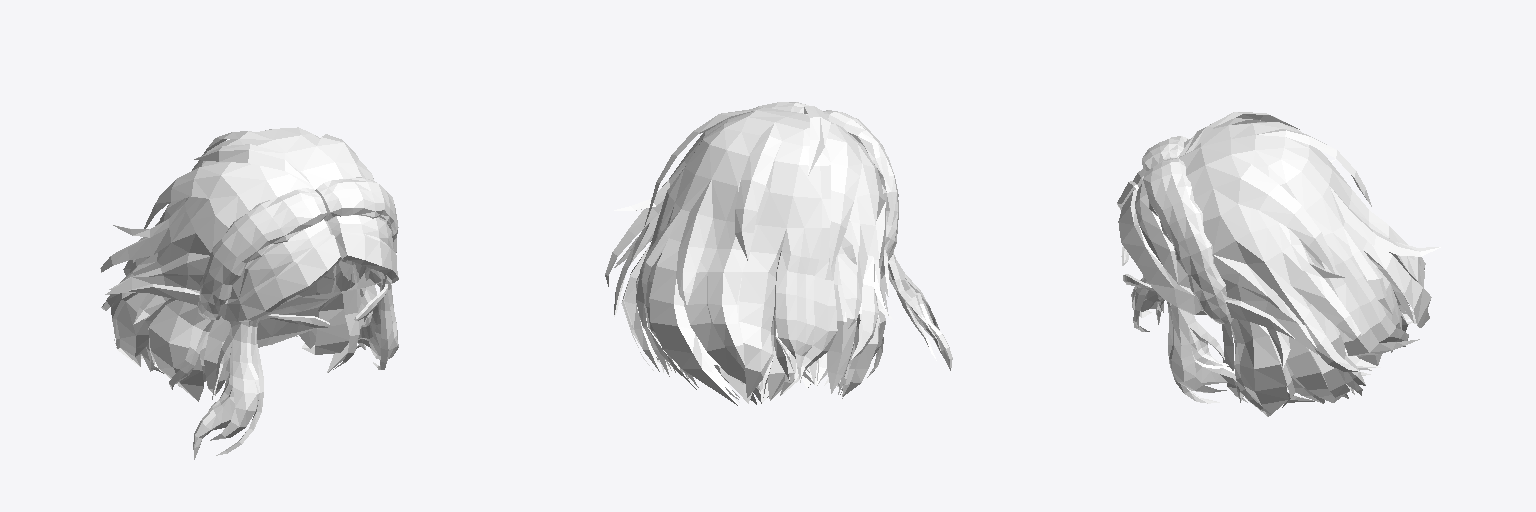
File: hair.obj
3 renders of one model, left to right at view 1: azimuth 30°, elevation 25°; view 2: azimuth 150°, elevation 25°; view 3: azimuth 270°, elevation 25°, orthographic.
Parts seen in each view (by area): view 1: mesh_hair_Mesh.001; view 2: mesh_hair_Mesh.001; view 3: mesh_hair_Mesh.001.
Boxes of the visible parts, x1,y1,x2,y2 form: mesh_hair_Mesh.001: [100, 127, 398, 459]; mesh_hair_Mesh.001: [605, 102, 952, 406]; mesh_hair_Mesh.001: [1117, 112, 1440, 416].
Size of the model in its own units: 0.3227 by 0.296 by 0.3348.